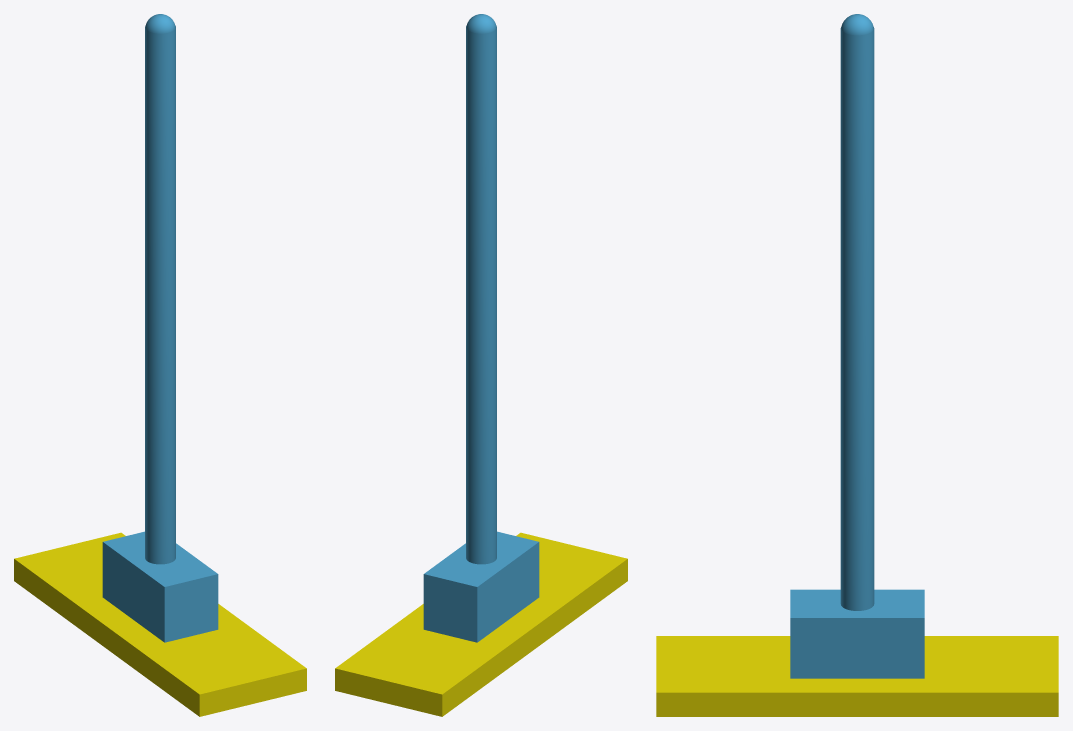
File: mop.fbx
3 views of the same model, side by side, from view 1: azimuth 30°, elevation 25°; view 2: azimuth 150°, elevation 25°; view 3: azimuth 270°, elevation 25° (orthographic). The views are drawn at different scales.
Parts seen in each view (by area): view 1: Cylinder; view 2: Cylinder; view 3: Cylinder.
Boxes of the visible parts, box(x1,y1,x2,y2) form: Cylinder: box(14, 14, 306, 716); Cylinder: box(335, 14, 627, 716); Cylinder: box(656, 14, 1058, 716).
Size of the model in its own units: 200 by 1107 by 600.
